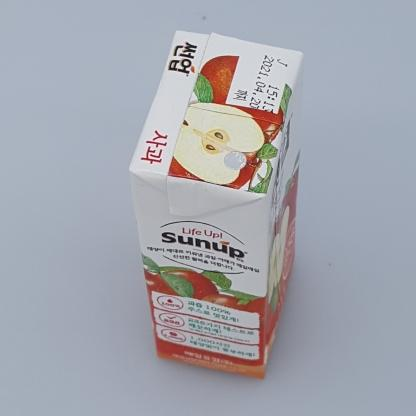-----------200ML: (128, 30, 304, 380)
